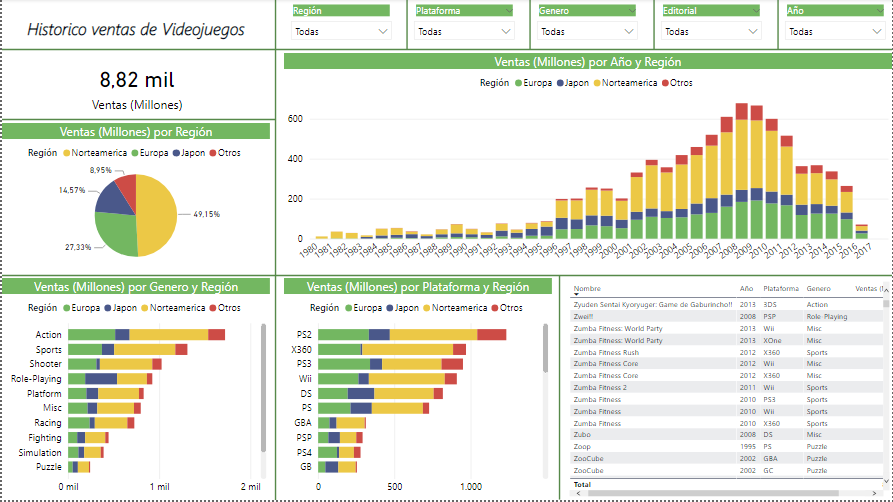

The page's visual inventory and layout, read from the dashboard file:
{"tool":"powerbi","page":{"name":"Página 1","canvas":[1280,720],"ordinal":0},"visuals":[{"type":"shape","box":[0,66.1,1279,12.9],"z":0},{"type":"tableEx","fields":{"Values":["Ventas Videojuegos.Nombre","Ventas Videojuegos.Año","Ventas Videojuegos.Plataforma","Ventas Videojuegos.Genero","Sum(Ventas Videojuegos.Ventas (Millones))"]},"box":[810.5,401,469.9,319],"z":1000},{"type":"columnChart","fields":{"Category":["Ventas Videojuegos.Año"],"Y":["Sum(Ventas Videojuegos.Ventas (Millones))"],"Series":["Ventas Videojuegos.Región"]},"box":[405.3,77.6,873.8,317.6],"z":2000},{"type":"pieChart","fields":{"Category":["Ventas Videojuegos.Región"],"Y":["Sum(Ventas Videojuegos.Ventas (Millones))"]},"box":[0,182.5,385.1,214.1],"z":3000},{"type":"barChart","fields":{"Y":["Sum(Ventas Videojuegos.Ventas (Millones))"],"Category":["Ventas Videojuegos.Genero"],"Series":["Ventas Videojuegos.Región"]},"box":[0,401,385.1,319],"z":4000},{"type":"barChart","fields":{"Y":["Sum(Ventas Videojuegos.Ventas (Millones))"],"Category":["Ventas Videojuegos.Plataforma"],"Series":["Ventas Videojuegos.Región"]},"box":[405.3,401,385.1,319],"z":5000},{"type":"card","fields":{"Values":["Sum(Ventas Videojuegos.Ventas (Millones))"]},"box":[1.4,79,385.1,90.5],"z":6000},{"type":"slicer","fields":{"Values":["Ventas Videojuegos.Año"]},"box":[1114.7,2.9,165.3,70.4],"z":7000},{"type":"slicer","fields":{"Values":["Ventas Videojuegos.Editorial"]},"box":[937,2.9,165.3,70.4],"z":8000},{"type":"slicer","fields":{"Values":["Ventas Videojuegos.Genero"]},"box":[758.8,2.9,165.3,70.4],"z":9000},{"type":"slicer","fields":{"Values":["Ventas Videojuegos.Plataforma"]},"box":[582,2.9,165.3,70.4],"z":10000},{"type":"slicer","fields":{"Values":["Ventas Videojuegos.Región"]},"box":[405.3,2.9,165.3,70.4],"z":11000},{"type":"textbox","box":[0,1.4,385.1,71.9],"z":12000},{"type":"shape","box":[0,166.7,393.8,12.9],"z":13000},{"type":"shape","box":[0,392.3,1280,12.9],"z":14000},{"type":"shape","box":[386.6,1.4,12.9,718.6],"z":15000},{"type":"shape","box":[794.7,401,12.9,319],"z":16000},{"type":"shape","box":[557.6,0,48.9,73.3],"z":17000},{"type":"shape","box":[734.4,0,48.9,73.3],"z":17001},{"type":"shape","box":[912.6,0,48.9,73.3],"z":17002},{"type":"shape","box":[1090.8,0,48.9,73.3],"z":17003}]}

Visuals, with their boxes in screenshot pixels (x1, y1, x2, y2), scaled from the page's 1280x720 canvas onto the 893x502 screenshot:
shape: locate(0, 46, 892, 55)
tableEx - Ventas Videojuegos.Nombre x Ventas Videojuegos.Año: locate(565, 280, 892, 501)
columnChart - Ventas Videojuegos.Año x Sum(Ventas Videojuegos.Ventas (Millones)): locate(283, 54, 892, 276)
pieChart - Ventas Videojuegos.Región x Sum(Ventas Videojuegos.Ventas (Millones)): locate(0, 127, 269, 277)
barChart - Sum(Ventas Videojuegos.Ventas (Millones)) x Ventas Videojuegos.Genero: locate(0, 280, 269, 501)
barChart - Sum(Ventas Videojuegos.Ventas (Millones)) x Ventas Videojuegos.Plataforma: locate(283, 280, 551, 501)
card - Sum(Ventas Videojuegos.Ventas (Millones)): locate(1, 55, 270, 118)
slicer - Ventas Videojuegos.Año: locate(778, 2, 892, 51)
slicer - Ventas Videojuegos.Editorial: locate(654, 2, 769, 51)
slicer - Ventas Videojuegos.Genero: locate(529, 2, 645, 51)
slicer - Ventas Videojuegos.Plataforma: locate(406, 2, 521, 51)
slicer - Ventas Videojuegos.Región: locate(283, 2, 398, 51)
textbox: locate(0, 1, 269, 51)
shape: locate(0, 116, 275, 125)
shape: locate(0, 274, 892, 283)
shape: locate(270, 1, 279, 501)
shape: locate(554, 280, 563, 501)
shape: locate(389, 0, 423, 51)
shape: locate(512, 0, 546, 51)
shape: locate(637, 0, 671, 51)
shape: locate(761, 0, 795, 51)
